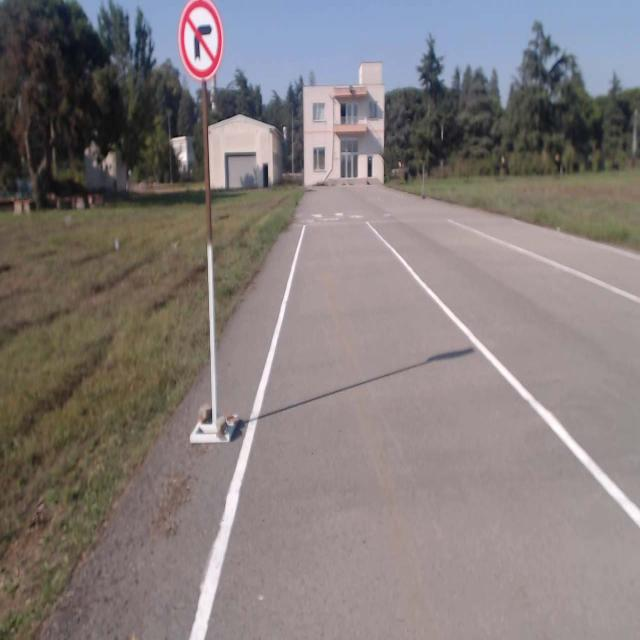sagadonulmez: (178, 1, 224, 81)
